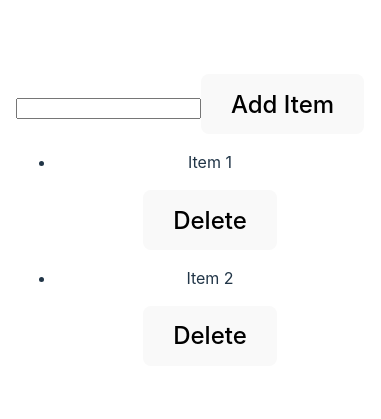
Test: List › should add a new item to the list
In the field: (109, 108) [16,98,201,119], type "Item 3"
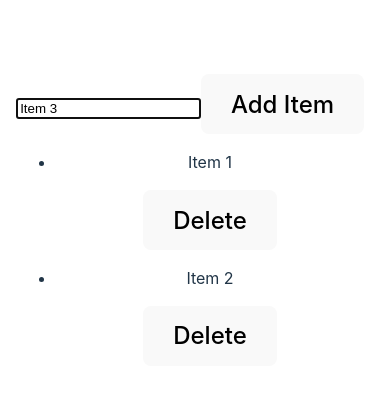
Click the button "Add Item": (282, 104) [201,74,364,134]
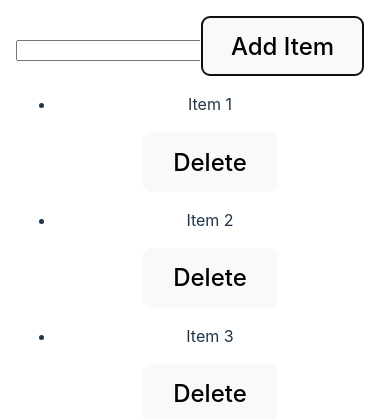
Result: the text "Item 3" is shown at [186,326,234,346]
